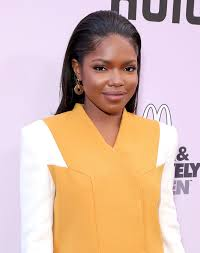person: (63, 12, 141, 116)
